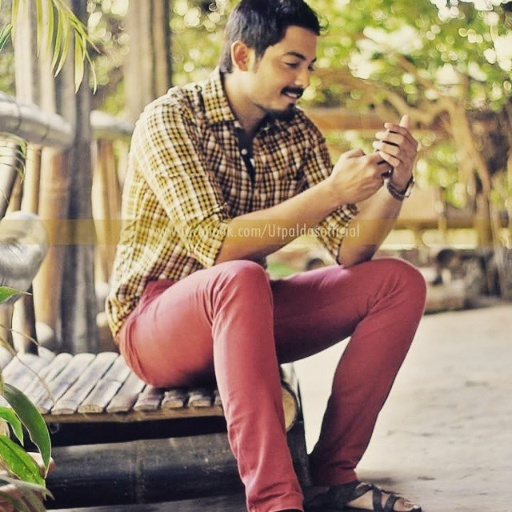hand: (325, 145, 392, 208)
